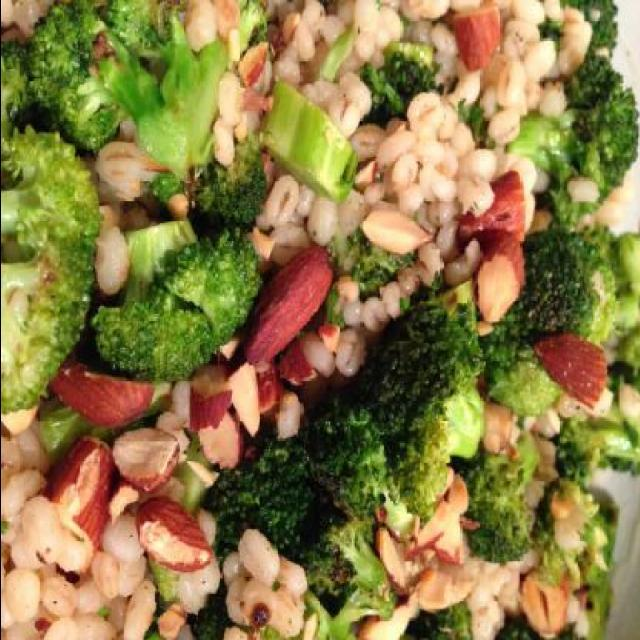Broccoli: (186, 0, 640, 638), (1, 0, 268, 462)
